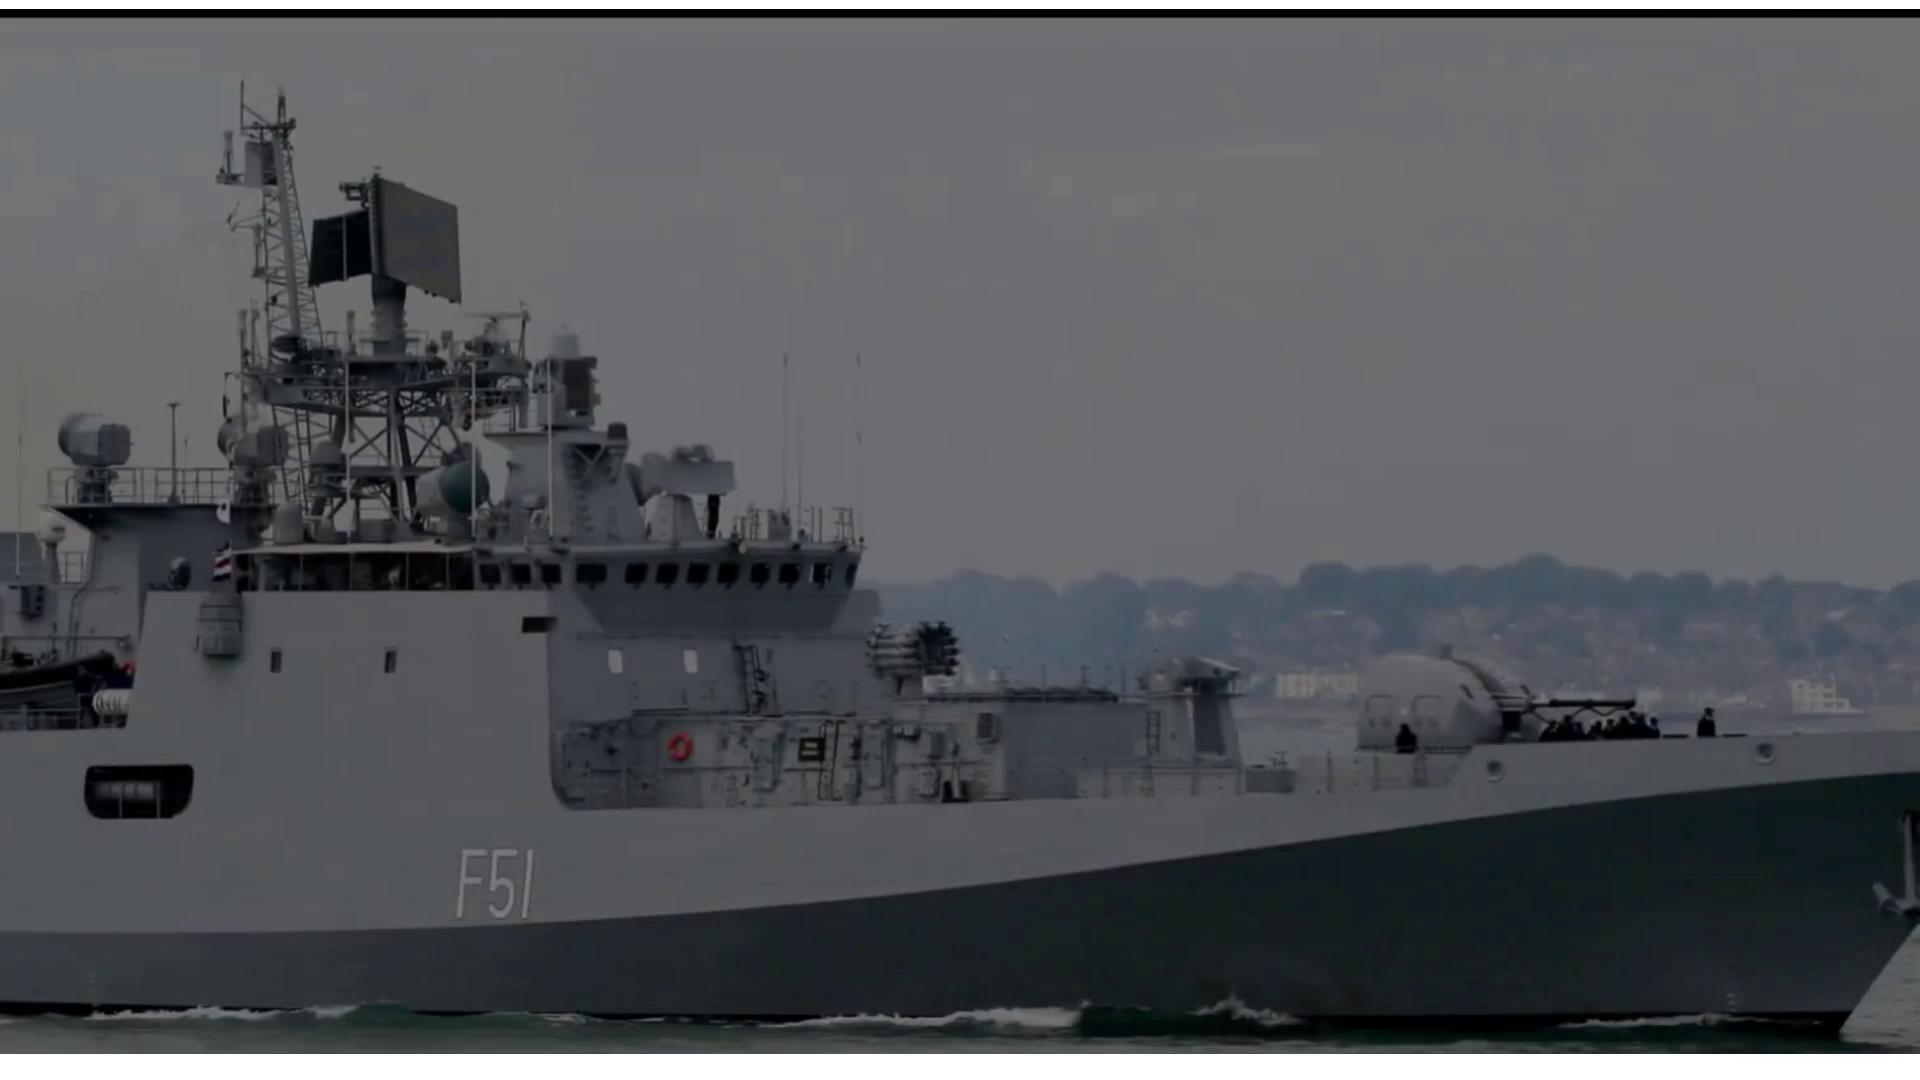OCR: (440, 836, 542, 926)
